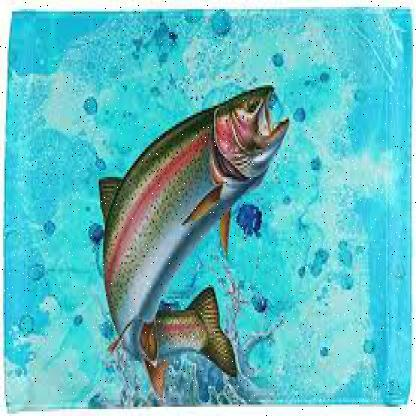fish: (96, 80, 286, 394)
